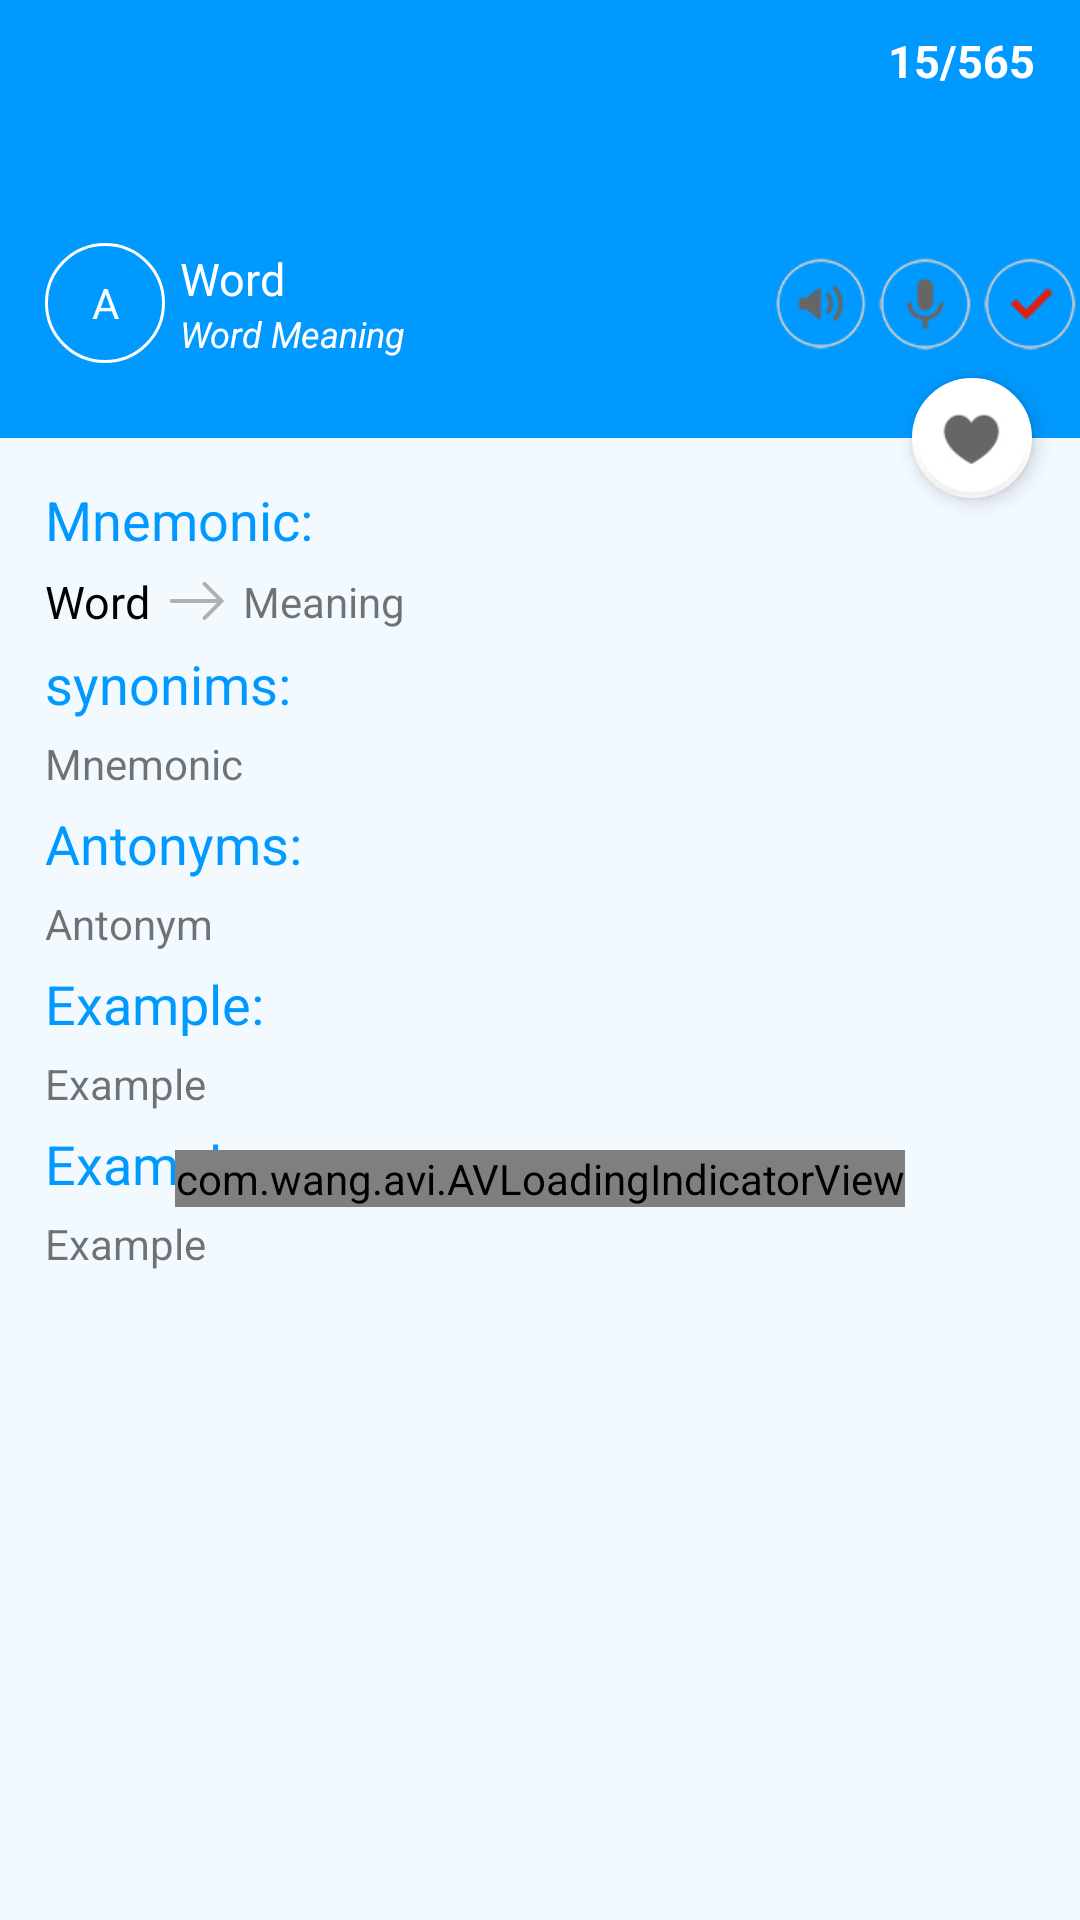

Screen size 1080x1920. Icon name, then its center in pixels as (x=x, y=y):
arrow: (x=197, y=601)
fav: (x=972, y=438)
mic: (x=925, y=304)
play: (x=821, y=303)
tick: (x=1030, y=304)
